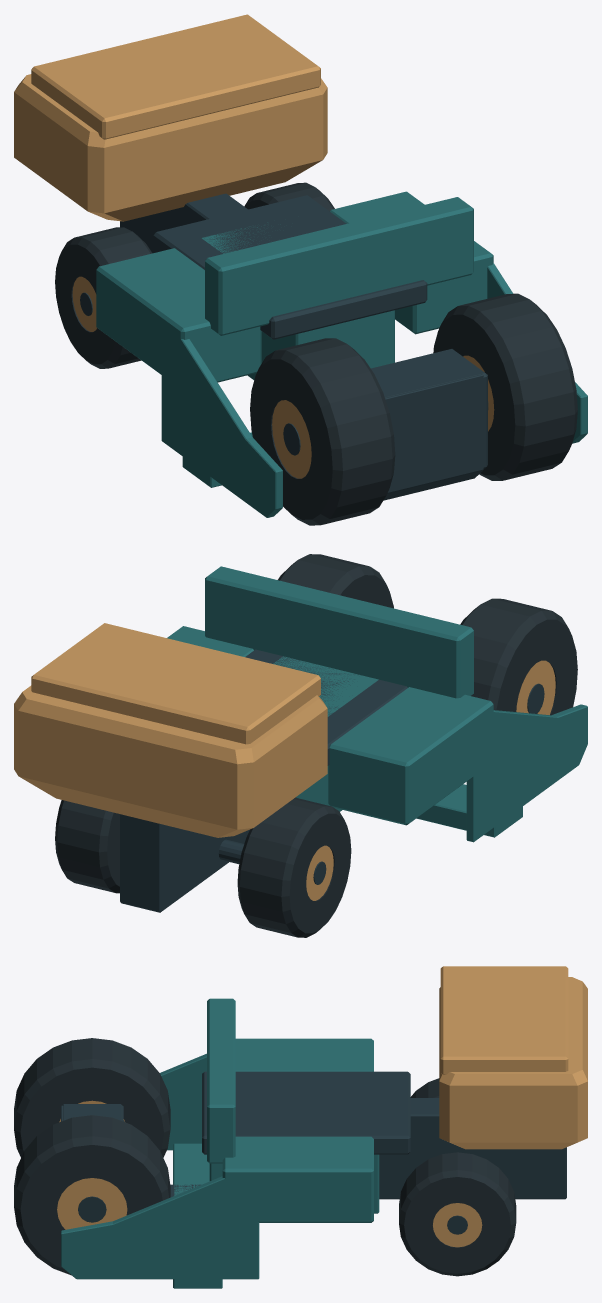
File: forklift-body-wheels.glb
3 renders of one model, top to bottom at view 1: azimuth 30°, elevation 25°; view 2: azimuth 150°, elevation 25°; view 3: azimuth 270°, elevation 25°, orthographic. The views are drawn at different scales.
Visible parts, largest first — view 1: forklift-body-wheels__batch_01, forklift-body-wheels__batch_02, forklift-body-wheels__batch_00, forklift-body-wheels__batch_11, forklift-body-wheels__batch_14, forklift-body-wheels__batch_05, forklift-body-wheels__batch_10, forklift-body-wheels__batch_08, forklift-body-wheels__batch_04; view 2: forklift-body-wheels__batch_01, forklift-body-wheels__batch_02, forklift-body-wheels__batch_05, forklift-body-wheels__batch_00, forklift-body-wheels__batch_11, forklift-body-wheels__batch_08, forklift-body-wheels__batch_14, forklift-body-wheels__batch_10, forklift-body-wheels__batch_04; view 3: forklift-body-wheels__batch_01, forklift-body-wheels__batch_02, forklift-body-wheels__batch_00, forklift-body-wheels__batch_14, forklift-body-wheels__batch_11, forklift-body-wheels__batch_08, forklift-body-wheels__batch_13, forklift-body-wheels__batch_07, forklift-body-wheels__batch_12.
Part boxes in pixels (x1,y1,x2,y2): forklift-body-wheels__batch_01: (96, 191, 587, 517); forklift-body-wheels__batch_02: (14, 14, 327, 221); forklift-body-wheels__batch_00: (120, 193, 488, 500); forklift-body-wheels__batch_11: (250, 338, 395, 525); forklift-body-wheels__batch_14: (433, 293, 577, 480); forklift-body-wheels__batch_05: (55, 227, 152, 368); forklift-body-wheels__batch_10: (272, 400, 311, 478); forklift-body-wheels__batch_08: (244, 182, 334, 211); forklift-body-wheels__batch_04: (72, 276, 96, 331); forklift-body-wheels__batch_01: (167, 566, 587, 842); forklift-body-wheels__batch_02: (14, 623, 327, 837); forklift-body-wheels__batch_05: (237, 797, 351, 937); forklift-body-wheels__batch_00: (120, 649, 407, 912); forklift-body-wheels__batch_11: (460, 598, 577, 715); forklift-body-wheels__batch_08: (55, 800, 119, 893); forklift-body-wheels__batch_14: (278, 554, 393, 608); forklift-body-wheels__batch_10: (516, 660, 555, 714); forklift-body-wheels__batch_04: (306, 845, 333, 900); forklift-body-wheels__batch_01: (61, 998, 379, 1288); forklift-body-wheels__batch_02: (439, 966, 587, 1149); forklift-body-wheels__batch_00: (61, 1071, 566, 1199); forklift-body-wheels__batch_14: (14, 1115, 170, 1275); forklift-body-wheels__batch_11: (14, 1038, 170, 1157); forklift-body-wheels__batch_08: (399, 1152, 516, 1276); forklift-body-wheels__batch_13: (57, 1178, 127, 1229); forklift-body-wheels__batch_07: (433, 1203, 482, 1247); forklift-body-wheels__batch_12: (78, 1196, 106, 1222).
Bounding box in the file's own units: 1.2 × 0.92 × 2.2.
